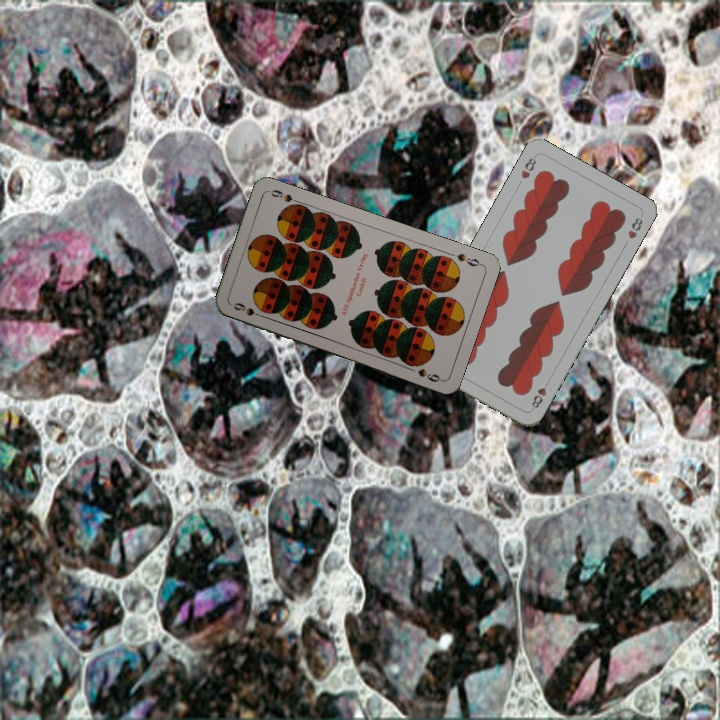H8: (517, 151, 539, 181), (527, 383, 549, 411)
S9: (230, 298, 267, 320), (453, 249, 485, 269)
